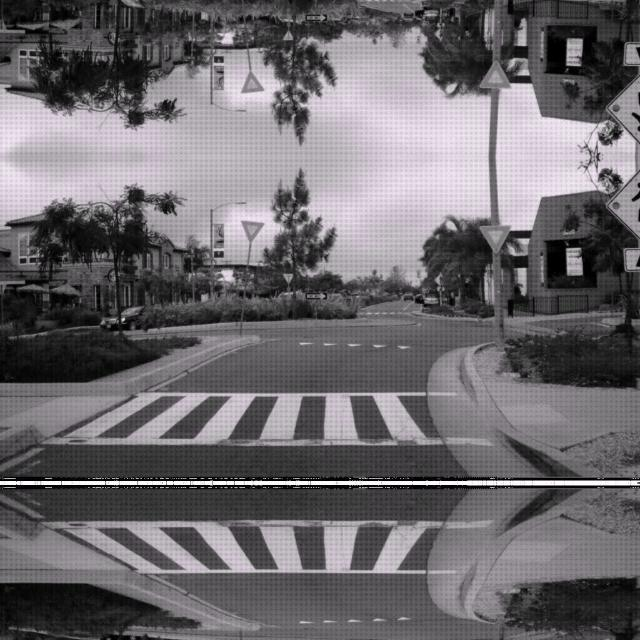pedestrianCrossing: (432, 270, 448, 286), (432, 26, 448, 42)
yield: (478, 224, 512, 252), (478, 60, 512, 88), (240, 218, 264, 240), (240, 73, 264, 94)
